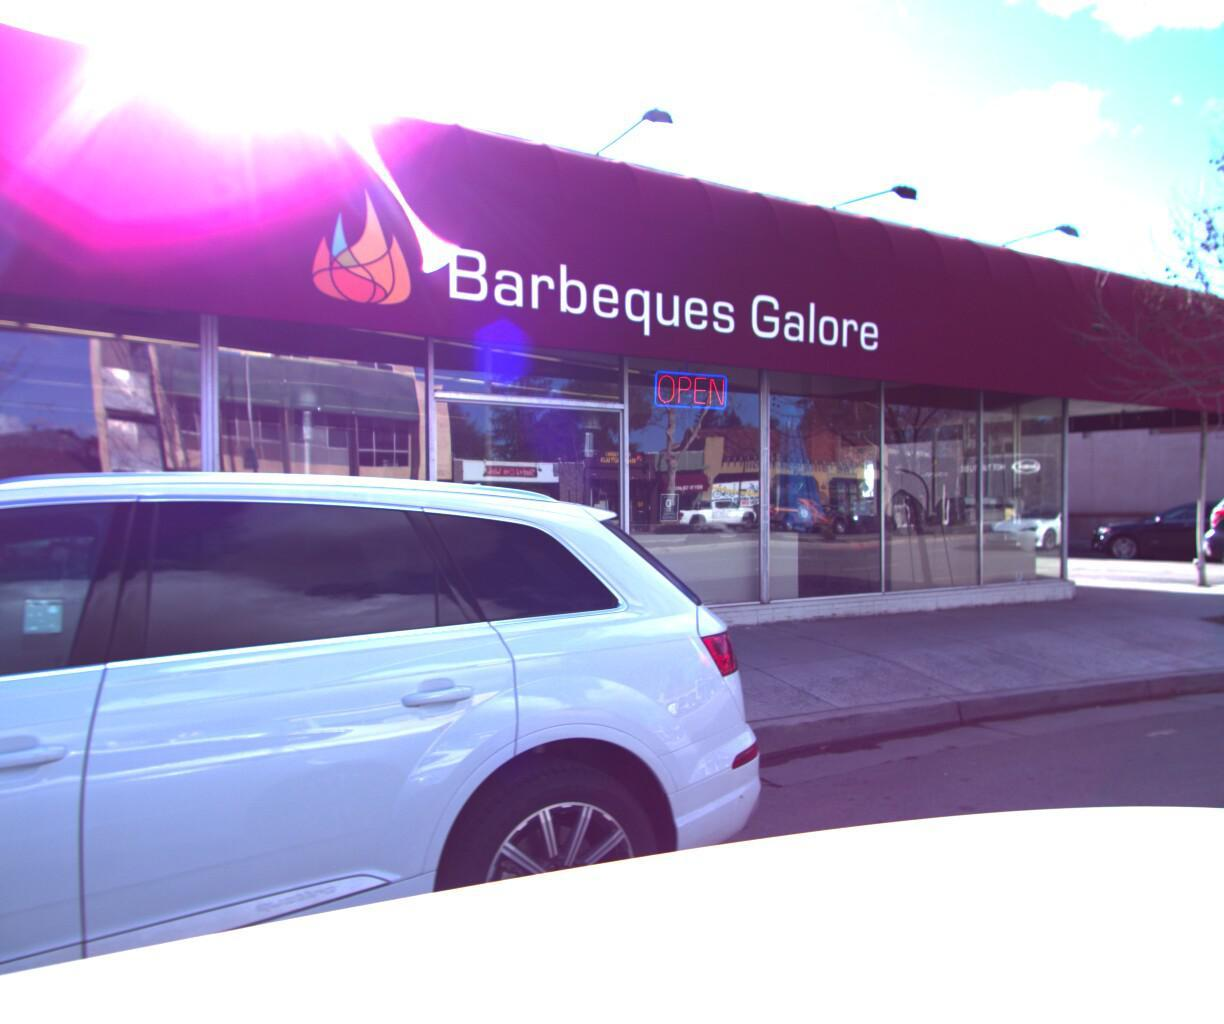car: (0, 374, 841, 1024), (1094, 492, 1224, 578), (1196, 458, 1224, 612)
